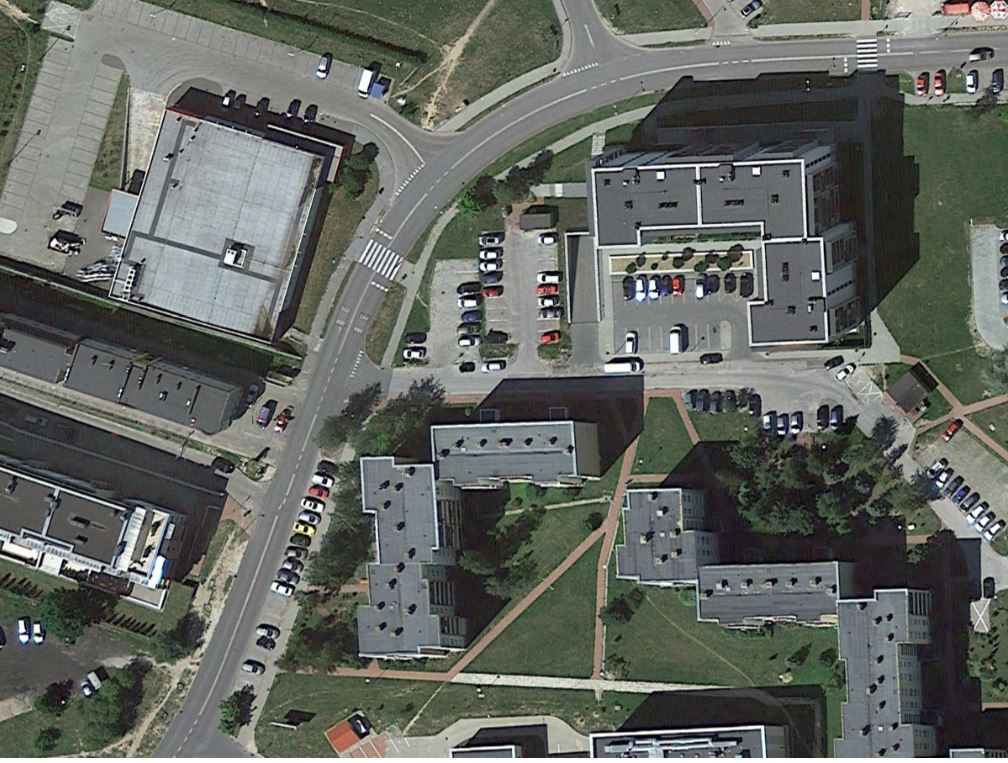block of flats: (605, 475, 945, 762), (558, 120, 883, 365), (334, 404, 611, 682), (1, 306, 256, 448), (1, 446, 190, 619)
shopping_center: (97, 85, 351, 353)
